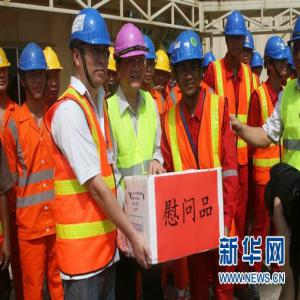blue: (69, 5, 110, 88), (172, 26, 205, 99), (18, 44, 48, 100), (263, 39, 290, 83), (224, 11, 246, 58), (142, 33, 157, 85), (241, 32, 255, 66), (249, 53, 264, 78)
red: (115, 21, 147, 93)
yellow: (42, 46, 62, 103), (154, 49, 171, 93), (106, 46, 119, 90), (2, 47, 12, 97)
